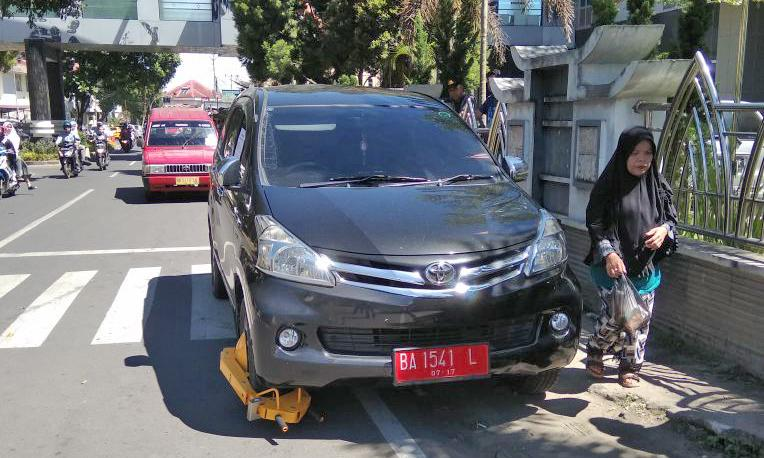plate: (392, 341, 490, 387)
